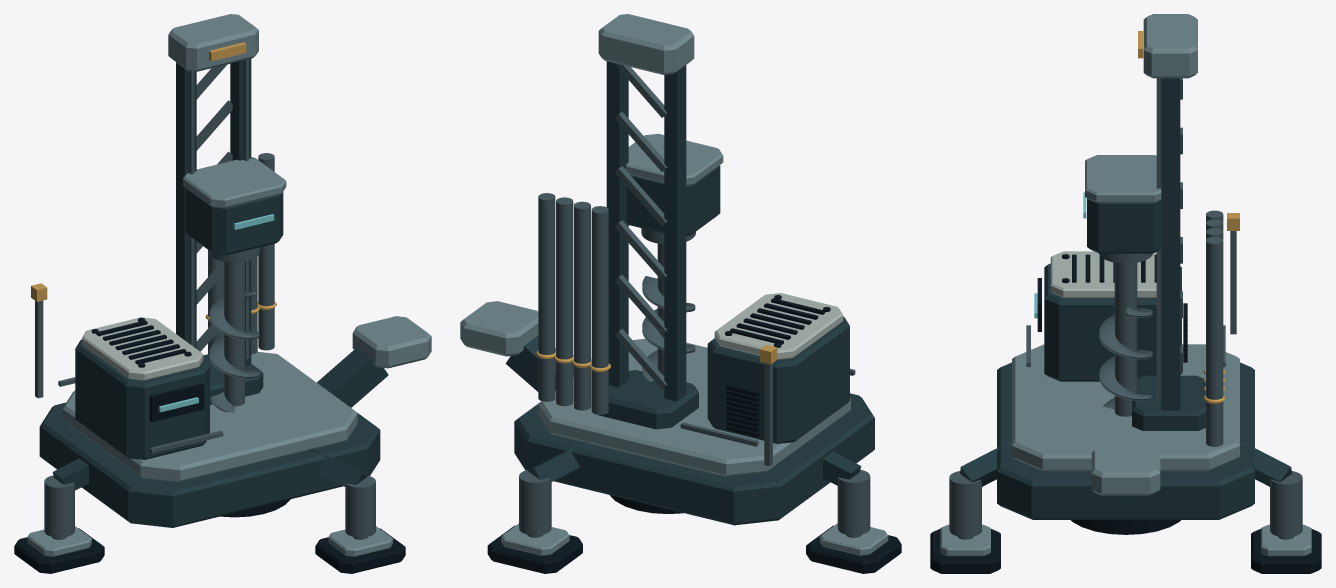
File: drill_d0_lod0.meshopt.glb
3 renders of one model, left to right at view 1: azimuth 30°, elevation 25°; view 2: azimuth 150°, elevation 25°; view 3: azimuth 270°, elevation 25°, orthographic. The views are drawn at different scales.
Parts seen in each view (by area): view 1: DRILL_CHASSIS, MAST_FRAME, DRIVE_HEAD, ORE_CHUTE, AUGER, ANCHOR_1_MESH, ANCHOR_3_MESH; view 2: DRILL_CHASSIS, MAST_FRAME, DRIVE_HEAD, ORE_CHUTE, ANCHOR_1_MESH, ANCHOR_2_MESH, AUGER; view 3: DRILL_CHASSIS, MAST_FRAME, DRIVE_HEAD, AUGER, ORE_CHUTE, ANCHOR_2_MESH, ANCHOR_3_MESH.
Part boxes in pixels (x1,y1,x2,y2): DRILL_CHASSIS: (31,153,380,537); MAST_FRAME: (168,14,263,404); DRIVE_HEAD: (183,158,286,262); ORE_CHUTE: (317,316,431,407); AUGER: (209,261,259,412); ANCHOR_1_MESH: (14,526,104,573); ANCHOR_3_MESH: (315,526,405,573); DRILL_CHASSIS: (514,193,874,535); MAST_FRAME: (598,14,698,429); DRIVE_HEAD: (625,133,723,244); ORE_CHUTE: (460,301,573,391); ANCHOR_1_MESH: (806,523,901,573); ANCHOR_2_MESH: (487,523,582,573); AUGER: (642,243,695,381); DRILL_CHASSIS: (949,210,1302,537); MAST_FRAME: (1132,14,1205,430); DRIVE_HEAD: (1083,155,1161,263); AUGER: (1099,262,1152,416); ORE_CHUTE: (1091,446,1160,498); ANCHOR_2_MESH: (1251,524,1321,573); ANCHOR_3_MESH: (930,524,1000,573).
Bounding box in the file's own units: 5.63 × 6.41 × 4.54.
